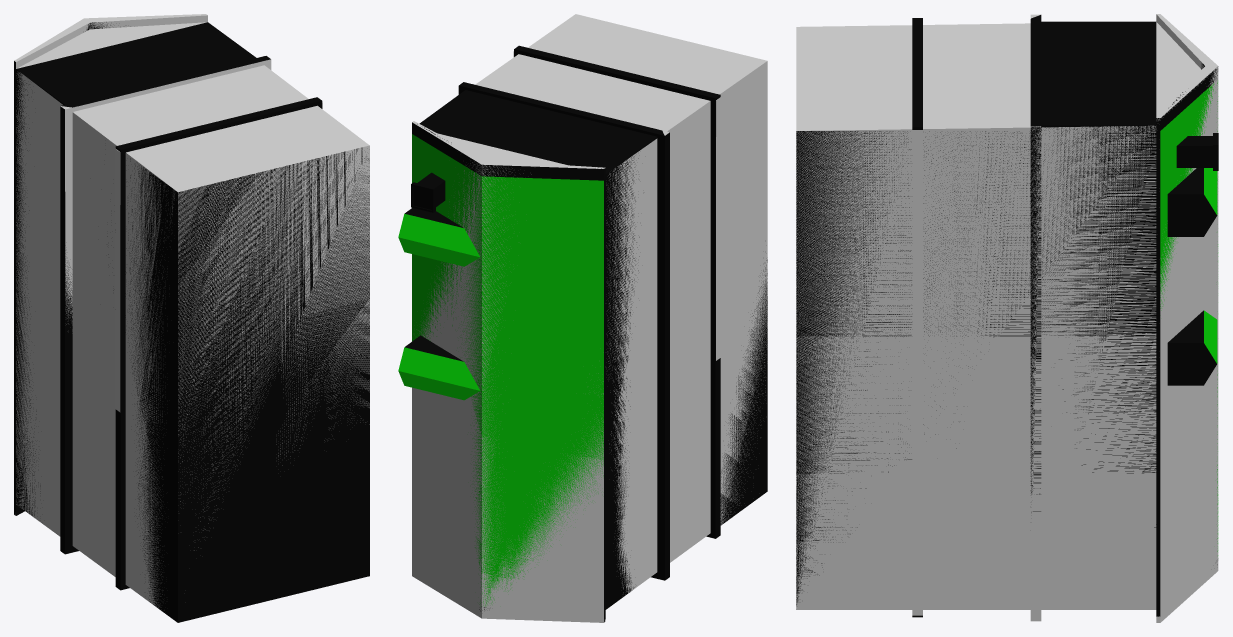
The model's file is Building1Model.fbx.
3 renders of one model, left to right at view 1: azimuth 30°, elevation 25°; view 2: azimuth 150°, elevation 25°; view 3: azimuth 270°, elevation 25°, orthographic. The views are drawn at different scales.
Parts seen in each view (by area): view 1: Building1Model, Building1Model_col; view 2: Building1Model_col, Building1Model; view 3: Building1Model_col, Building1Model.
Part boxes in pixels (<box>): Building1Model: <box>14,22,369,622</box>; Building1Model_col: <box>14,14,369,610</box>; Building1Model_col: <box>412,14,767,622</box>; Building1Model: <box>398,45,767,621</box>; Building1Model_col: <box>796,14,1218,622</box>; Building1Model: <box>796,15,1218,617</box>.
Size of the model in its own units: 1069 by 2246 by 1704.
